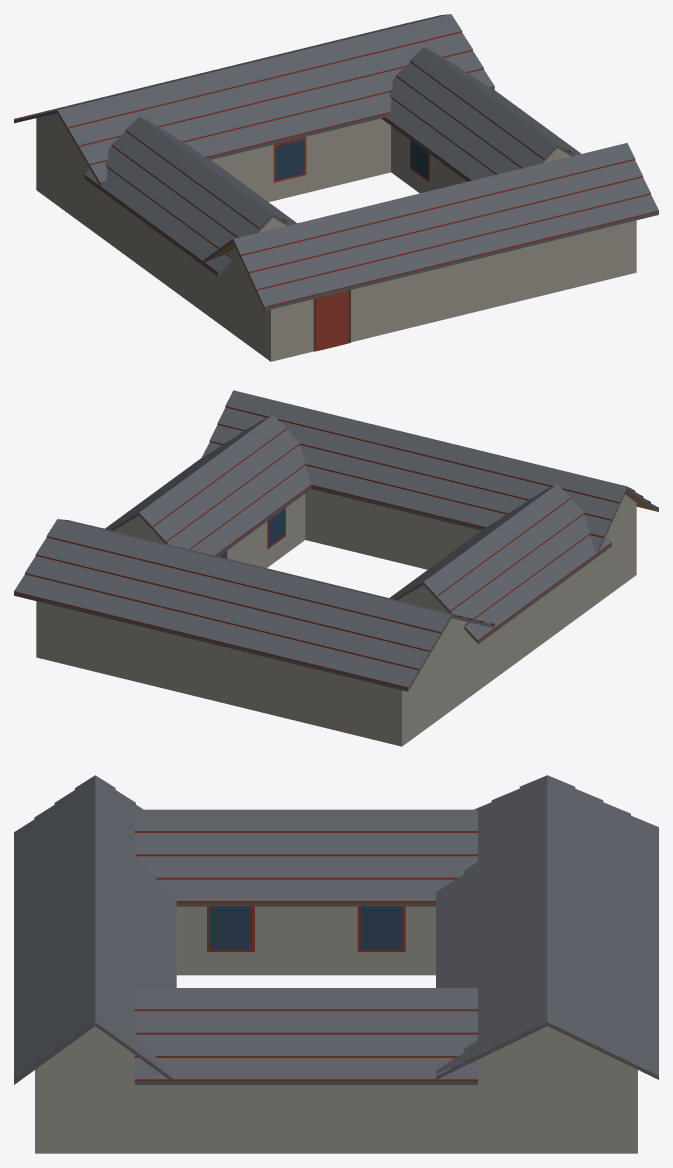
File: siheyuan.glb
3 views of the same model, one above another, from view 1: azimuth 30°, elevation 25°; view 2: azimuth 150°, elevation 25°; view 3: azimuth 270°, elevation 25° (orthographic). The views are drawn at different scales.
Parts seen in each view (by area): view 1: siheyuan; view 2: siheyuan; view 3: siheyuan.
Boxes of the visible parts, x1,y1,x2,y2 form: siheyuan: (14, 14, 658, 361); siheyuan: (14, 390, 658, 746); siheyuan: (14, 775, 658, 1153).
Bounding box in the file's own units: 19.4 × 5.14 × 21.4.
Materials: 1 (1 with a texture image).
